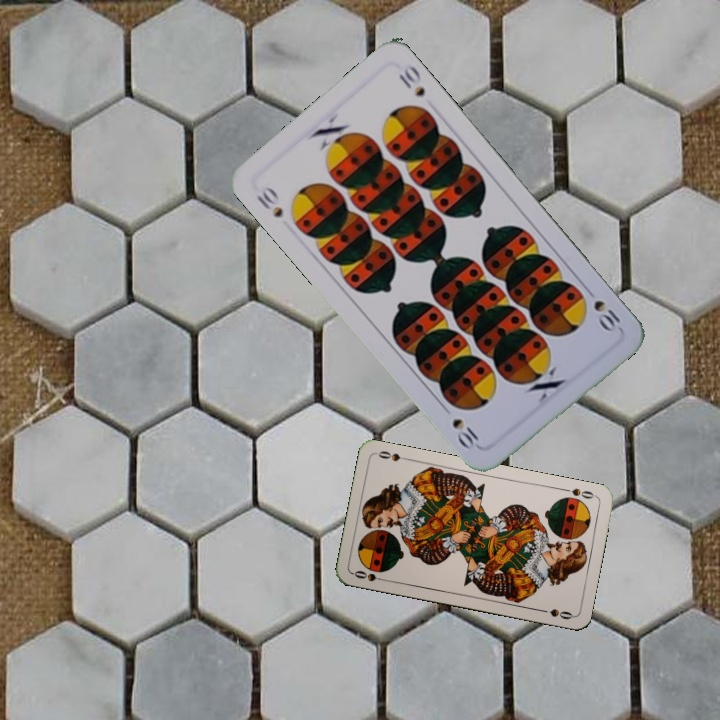S10: (589, 296, 623, 335), (252, 182, 286, 221)
SO: (350, 566, 390, 584), (558, 484, 598, 502)
